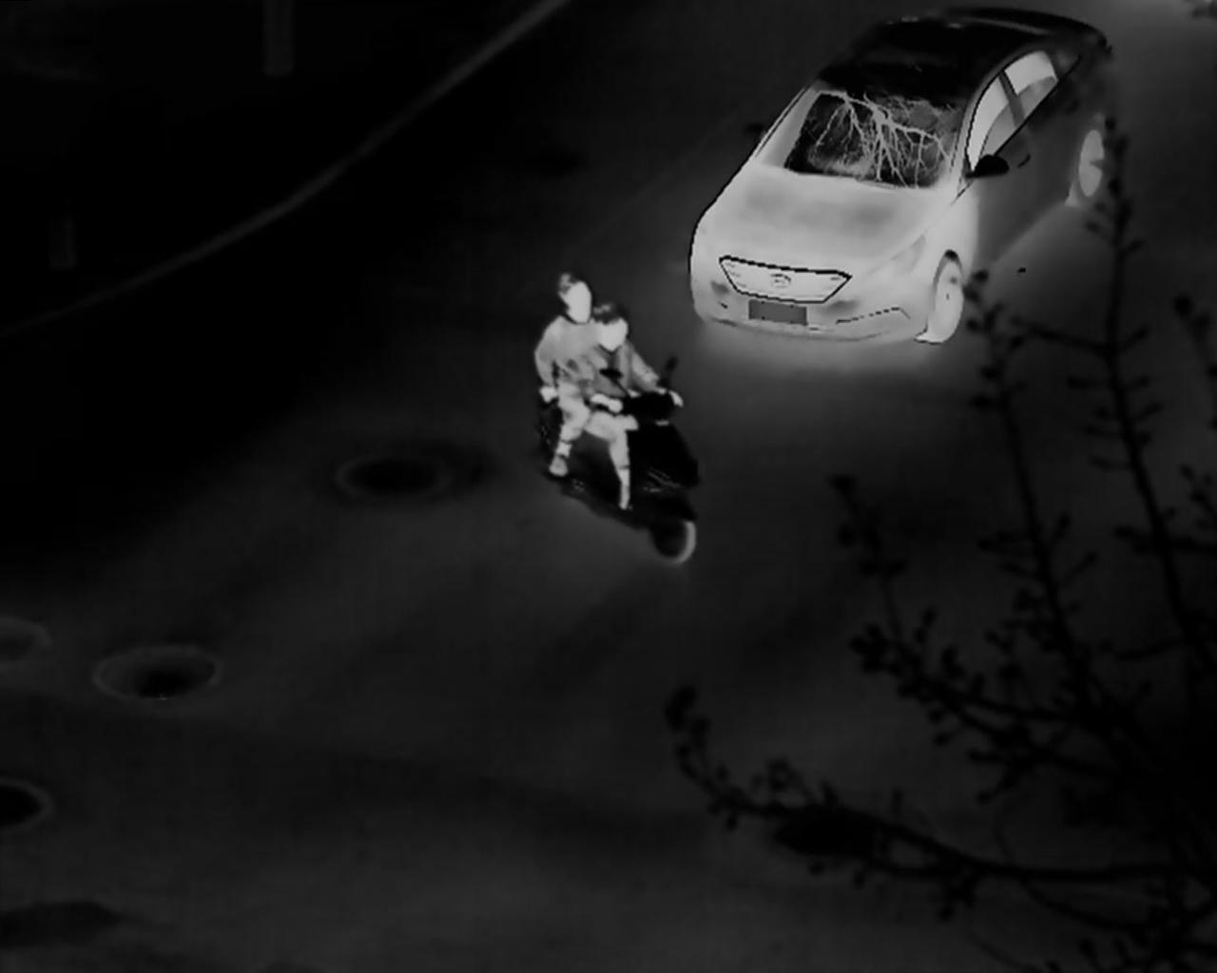person: (575, 304, 684, 509), (535, 272, 602, 478)
